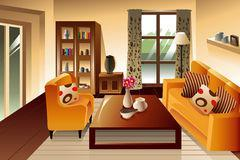chair: (43, 72, 94, 140)
diningtable: (88, 93, 179, 150)
sofa: (161, 57, 238, 151)
